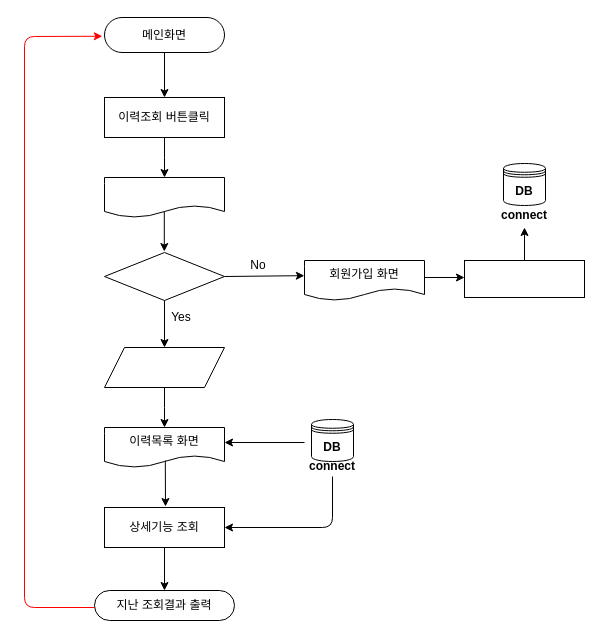
Image size: 602x638. Some labels were removed from this diagram. Each missing label, with the box of its shape:
ID/PW 입력: (104, 346, 224, 388)
Login 화면: (104, 176, 224, 218)
데이터 insert: (464, 260, 584, 298)
회원여부: (104, 252, 224, 300)
